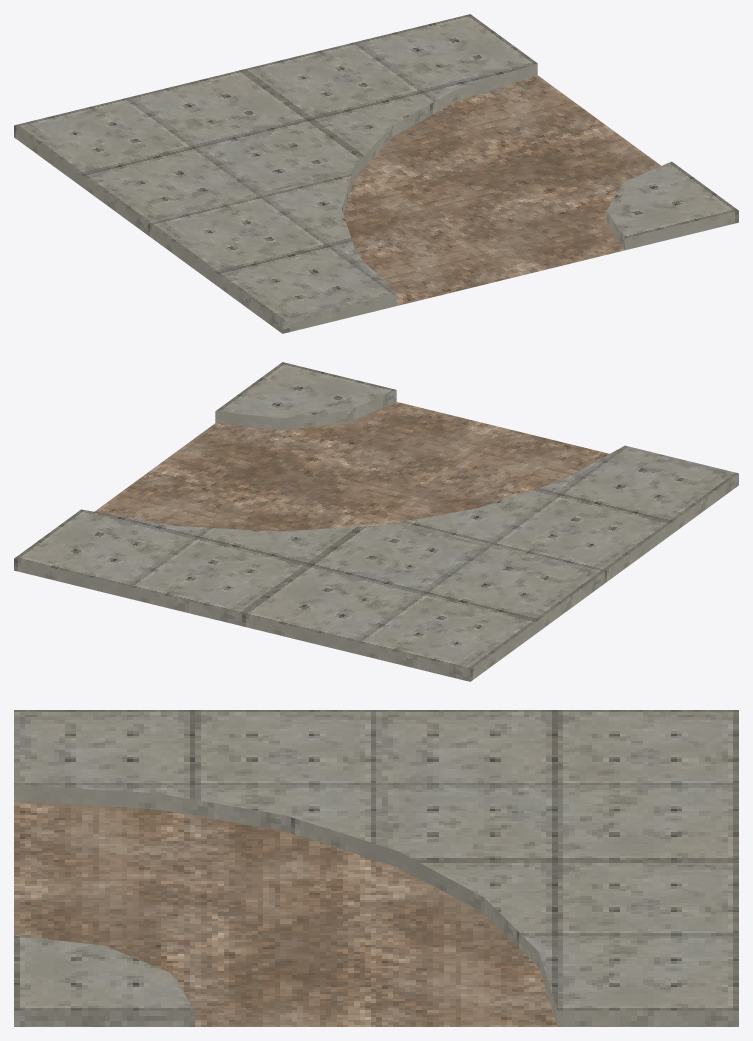
Rendered from road-dirt-corner.001_lev2.glb.
The picture shows the model from 3 angles, top to bottom: view 1: azimuth 30°, elevation 25°; view 2: azimuth 150°, elevation 25°; view 3: azimuth 270°, elevation 25°; orthographic projection. The views are drawn at different scales.
Parts seen in each view (by area): view 1: road-dirt-corner.001_lev2; view 2: road-dirt-corner.001_lev2; view 3: road-dirt-corner.001_lev2.
Boxes of the visible parts, x1,y1,x2,y2 form: road-dirt-corner.001_lev2: (14,14,738,333); road-dirt-corner.001_lev2: (14,362,738,681); road-dirt-corner.001_lev2: (14,710,738,1026).
Size of the model in its own units: 10.88 by 0.2721 by 11.09.
Materials: 3 (3 with a texture image).
